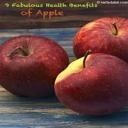apple: (54, 52, 128, 116)
